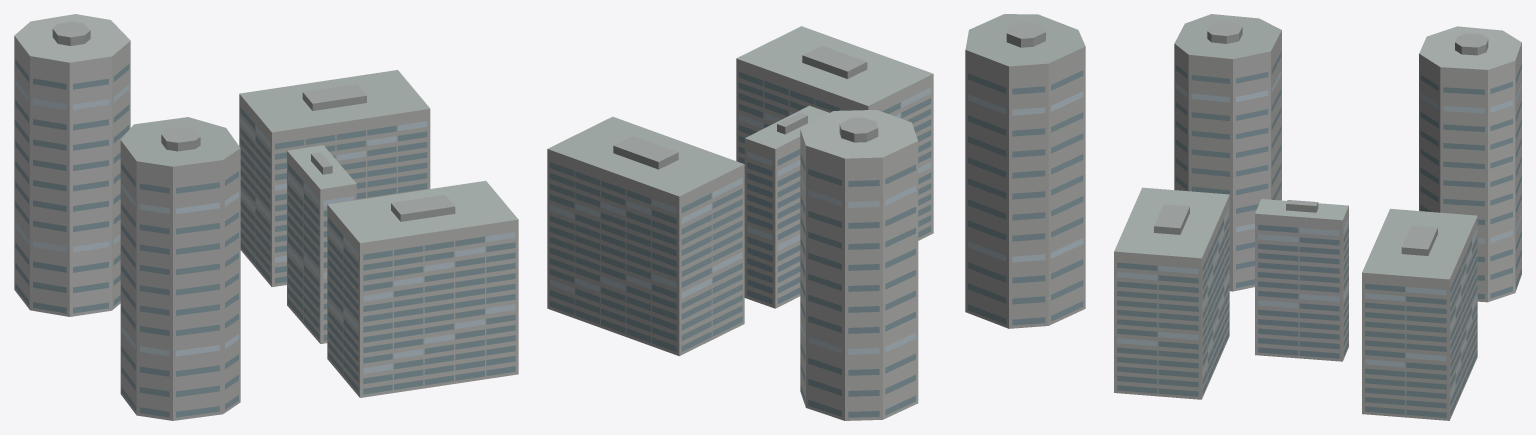
File: apt-a15004201.glb
3 renders of one model, left to right at view 1: azimuth 30°, elevation 25°; view 2: azimuth 150°, elevation 25°; view 3: azimuth 270°, elevation 25°, orthographic. The views are drawn at different scales.
Parts seen in each view (by area): view 1: apt-a15004201; view 2: apt-a15004201; view 3: apt-a15004201.
Boxes of the visible parts, x1,y1,x2,y2 form: apt-a15004201: [14, 14, 518, 420]; apt-a15004201: [547, 14, 1085, 420]; apt-a15004201: [1114, 14, 1521, 420].
Size of the model in its own units: 114 by 73 by 112.
